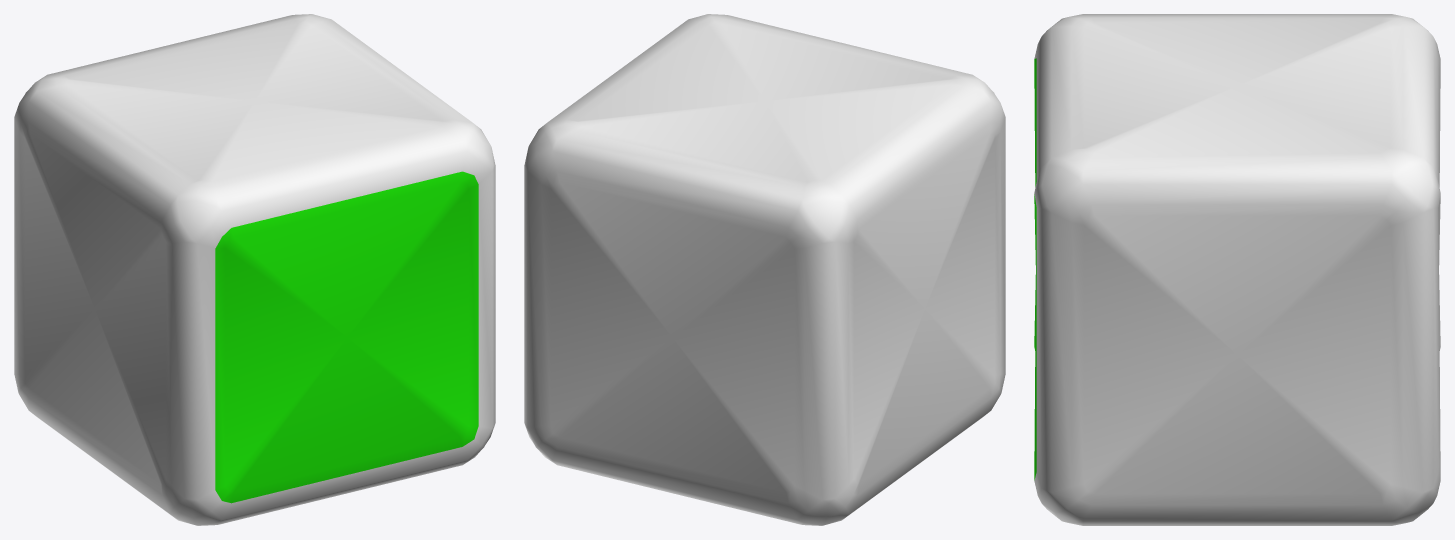
File: CPI_D_FBX_06_Bumper_01_A.fbx
3 views of the same model, side by side, from view 1: azimuth 30°, elevation 25°; view 2: azimuth 150°, elevation 25°; view 3: azimuth 270°, elevation 25° (orthographic). The views are drawn at different scales.
Parts seen in each view (by area): view 1: CPI_D_FBX_06_Bumper_01_A; view 2: CPI_D_FBX_06_Bumper_01_A; view 3: CPI_D_FBX_06_Bumper_01_A.
Part boxes in pixels (<box>): CPI_D_FBX_06_Bumper_01_A: <box>14,14,495,525</box>; CPI_D_FBX_06_Bumper_01_A: <box>524,14,1005,525</box>; CPI_D_FBX_06_Bumper_01_A: <box>1034,14,1440,525</box>.
Size of the model in its own units: 2.03 by 2.03 by 2.03.
